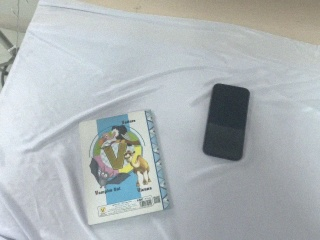book: (78, 109, 173, 226)
phone: (202, 83, 250, 162)
